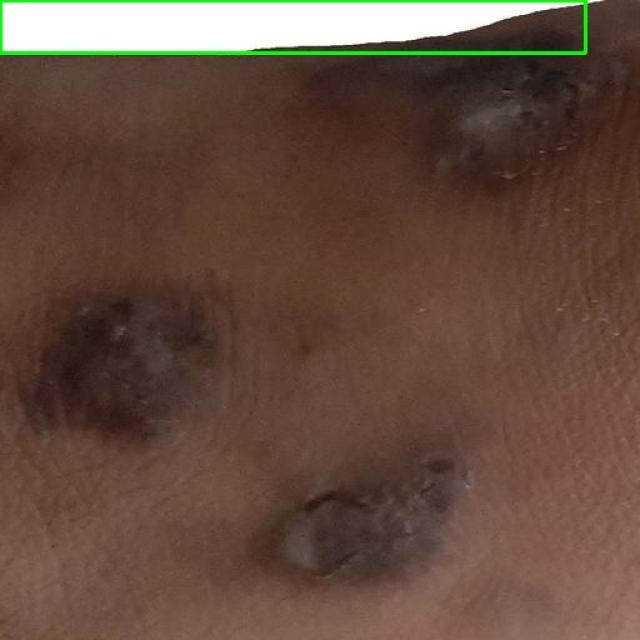Contact Dermatitis: (0, 0, 585, 52)
